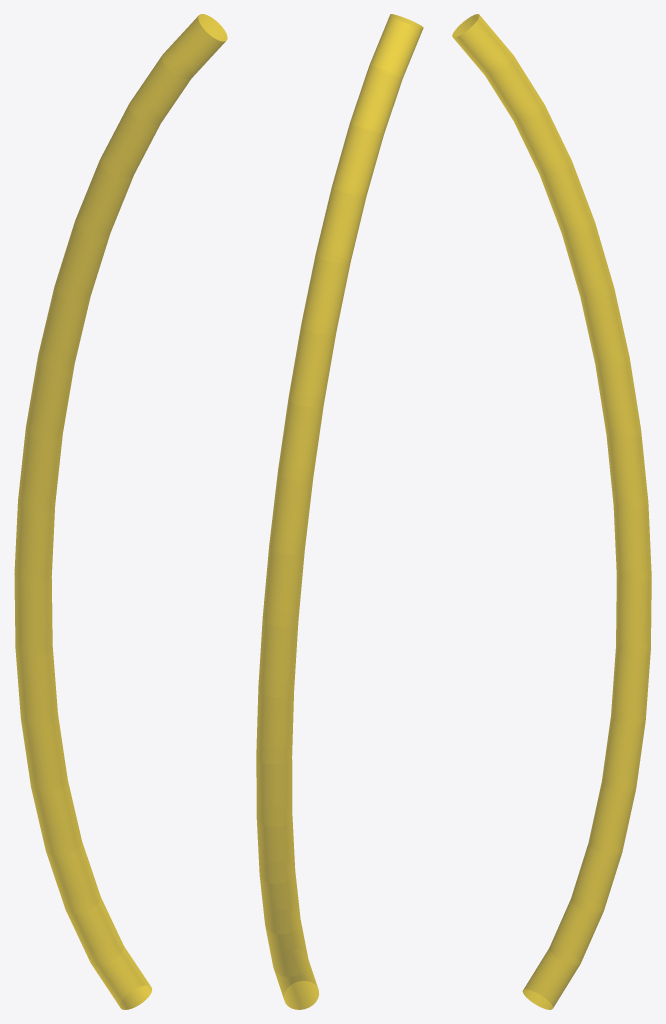
The model's file is Event_84804159_track_95.fbx.
3 renders of one model, left to right at view 1: azimuth 90°, elevation 25°; view 2: azimuth 150°, elevation 25°; view 3: azimuth 270°, elevation 25°, orthographic. The views are drawn at different scales.
Visible parts, largest first — view 1: Model; view 2: Model; view 3: Model.
Boxes of the visible parts, box(x1,y1,x2,y2) form: Model: box(14, 14, 227, 1009); Model: box(256, 14, 423, 1009); Model: box(452, 14, 651, 1009).
Size of the model in its own units: 0.1275 by 1.2 by 0.2268.
